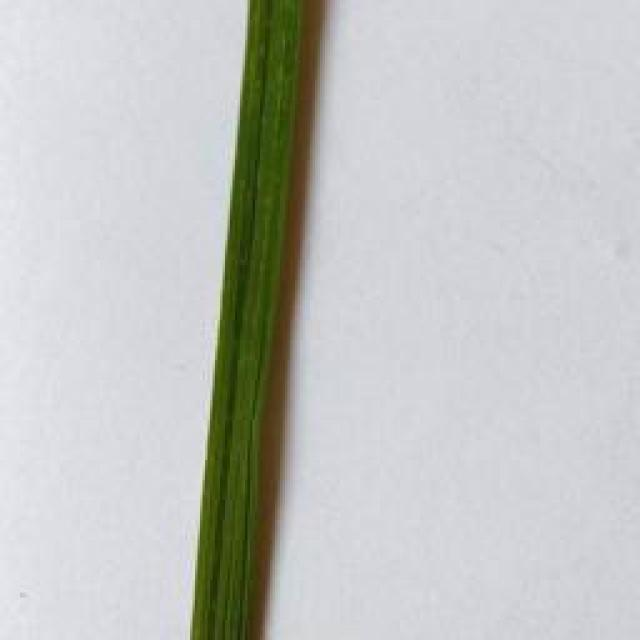Healthy-Plant: (192, 0, 303, 640)
